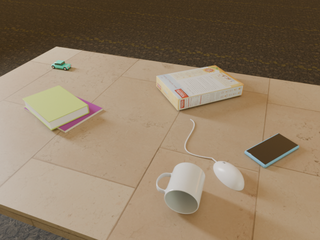book: (23, 85, 89, 130), (24, 96, 103, 133)
box: (157, 66, 244, 110)
cup: (156, 163, 205, 214)
mouse: (213, 161, 244, 190)
phone: (245, 134, 299, 168)
toy_car: (52, 60, 71, 70)
